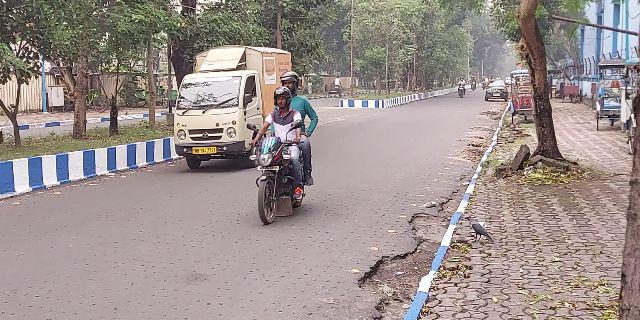Car: (482, 78, 508, 102)
Minitruck: (172, 43, 295, 164)
Motorbike: (250, 67, 318, 226)
Rickshaw: (592, 54, 626, 133), (507, 68, 537, 127)
